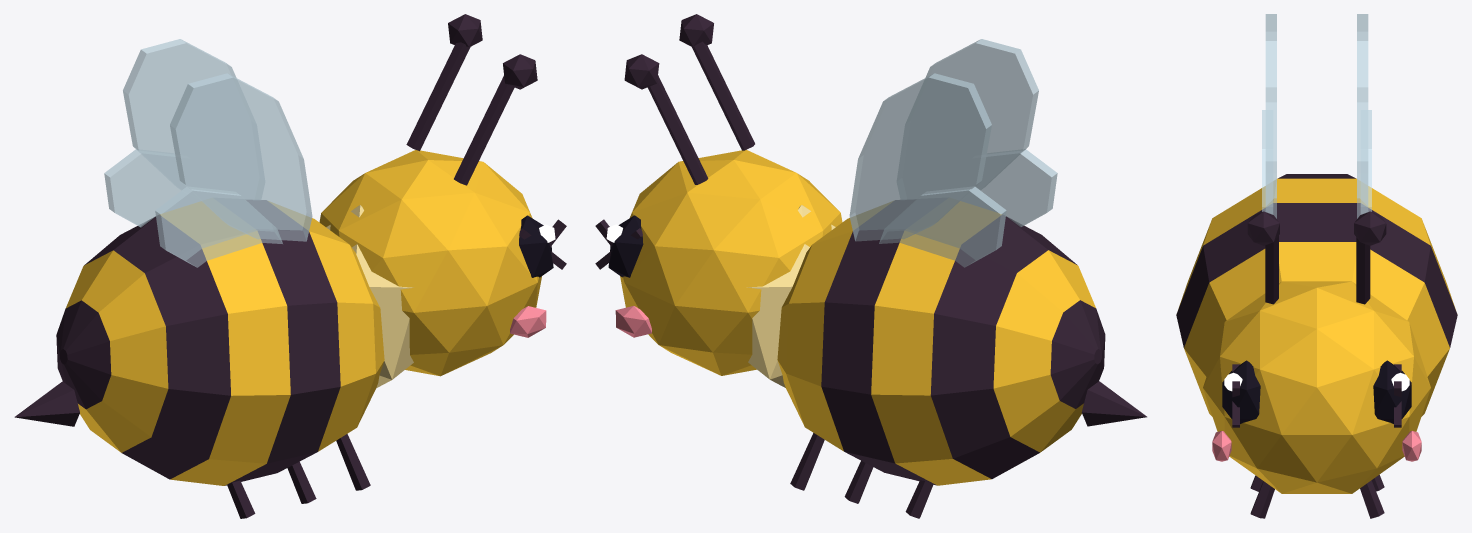
The model's file is bee.glb.
3 renders of one model, left to right at view 1: azimuth 30°, elevation 25°; view 2: azimuth 150°, elevation 25°; view 3: azimuth 270°, elevation 25°, orthographic. The views are drawn at different scales.
Parts seen in each view (by area): view 1: Body, ForeWing, ForeWing.001; view 2: Body, ForeWing.001, ForeWing; view 3: Body, ForeWing, ForeWing.001, X.
Part boxes in pixels (x1=…): Body: x1=14, y1=14, x2=555, y2=518; ForeWing: x1=155, y1=73, x2=312, y2=267; ForeWing.001: x1=104, y1=39, x2=264, y2=227; Body: x1=606, y1=14, x2=1146, y2=518; ForeWing.001: x1=849, y1=73, x2=1006, y2=267; ForeWing: x1=897, y1=39, x2=1057, y2=226; Body: x1=1176, y1=174, x2=1457, y2=518; ForeWing: x1=1262, y1=14, x2=1276, y2=218; ForeWing.001: x1=1357, y1=14, x2=1371, y2=218; X: x1=1232, y1=364, x2=1401, y2=427.
Bounding box in the file's own units: 1.51 × 1.24 × 0.74.
